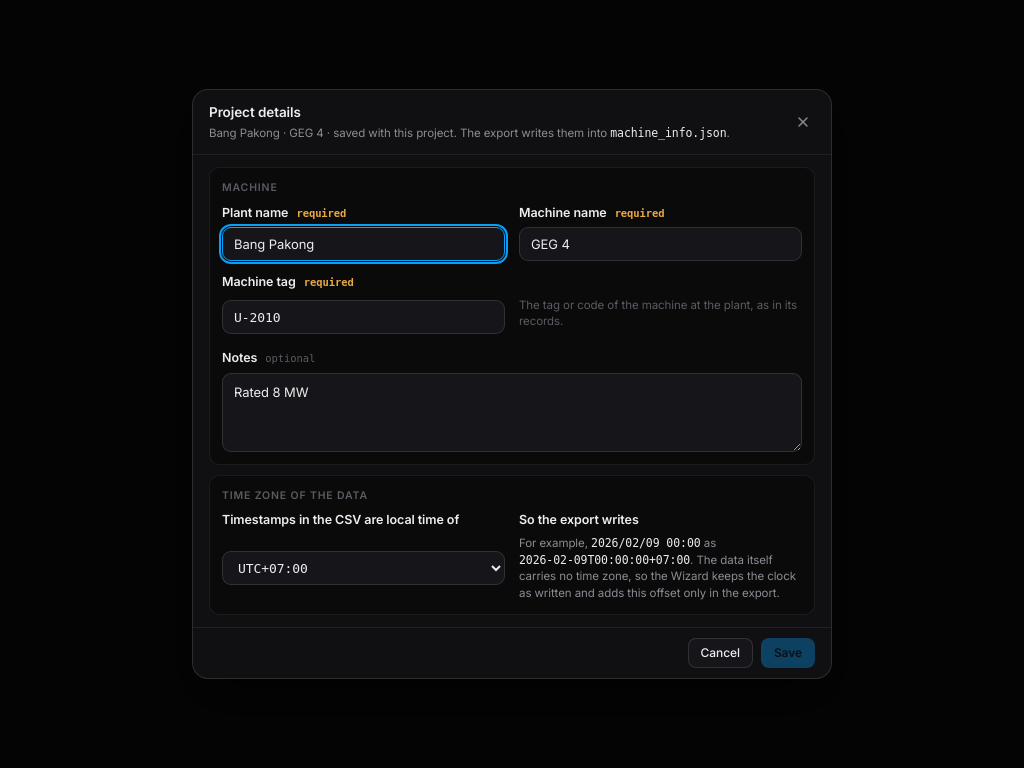
Test: ProjectDetailsModal › a save that could not read the project keeps the dialog open with an error
Step 1. Replace the text in the text box with placeholder "What this project is about" with "x" → (512, 412), box [222,373,802,452]
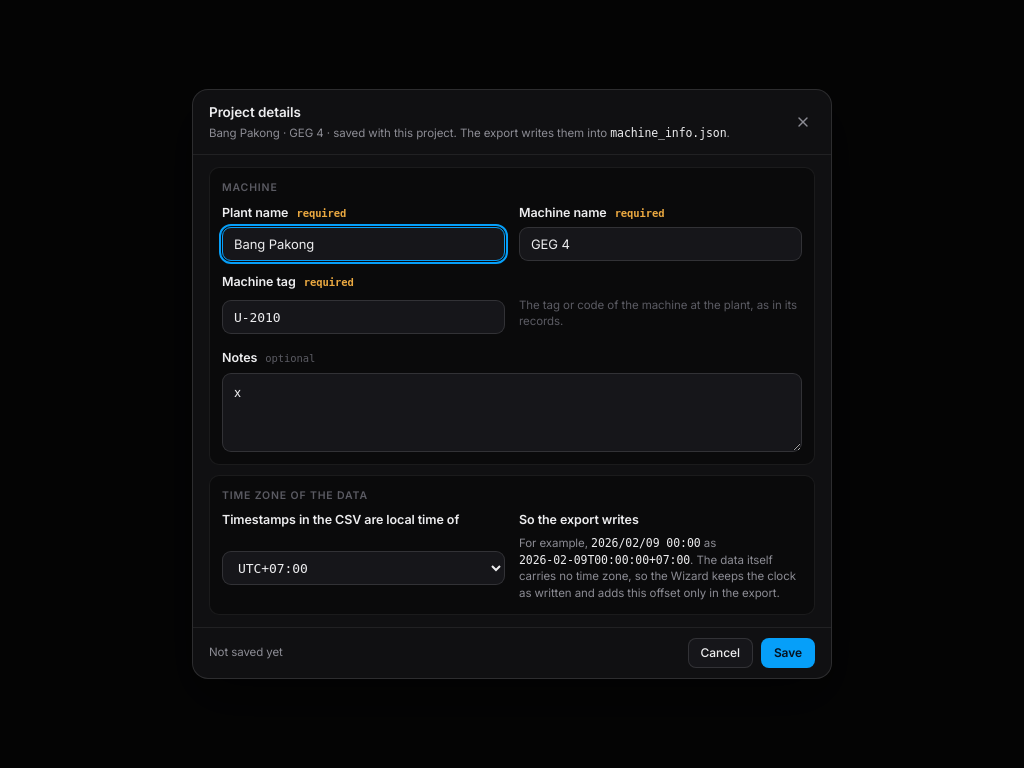
Step 2. Click the button "Save" → (788, 653), box [761,638,815,668]
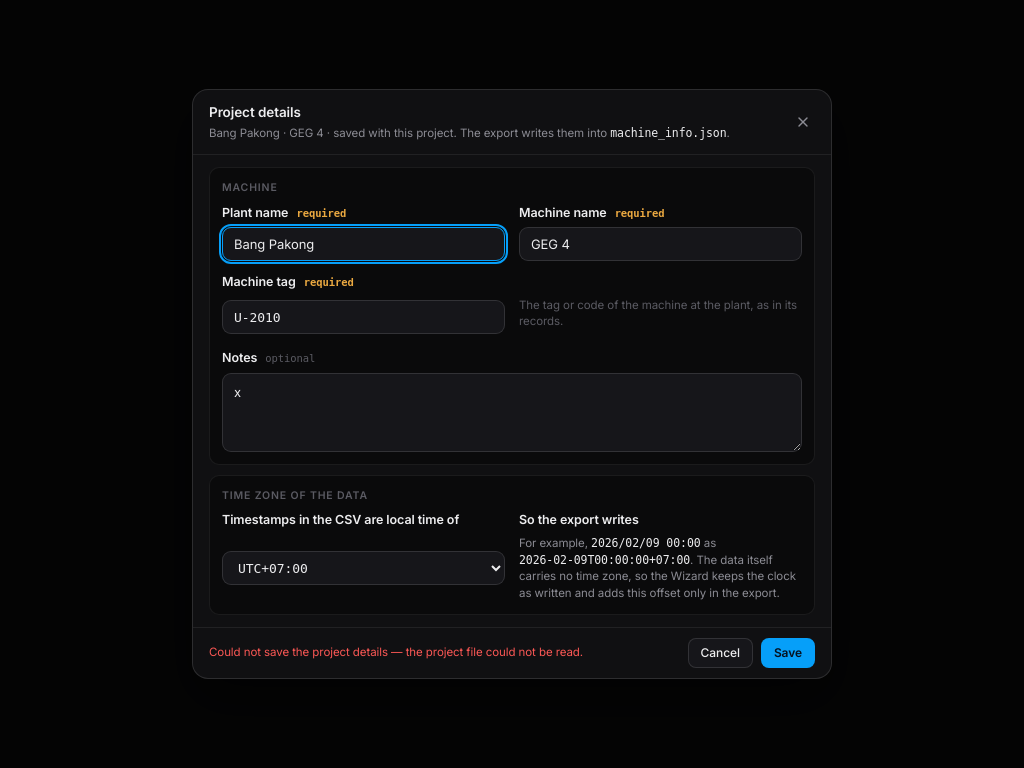
expect the message shows "Could not save the project details": met, box [209,645,583,659]
